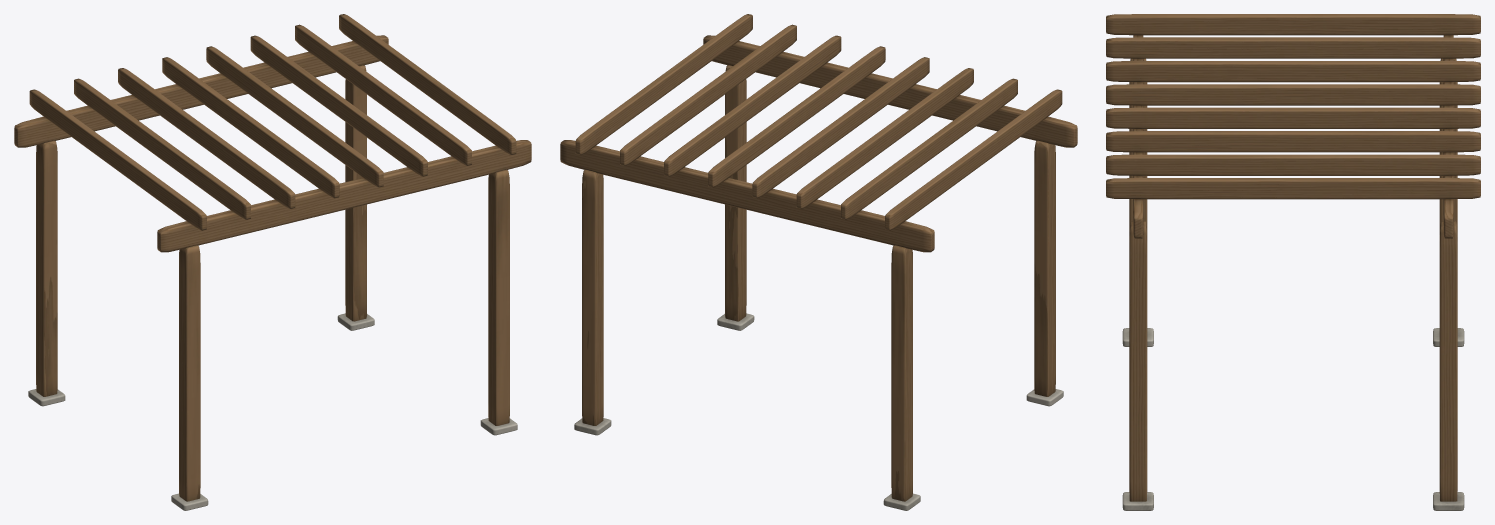
File: cedar.glb
The picture shows the model from 3 angles, left to right: view 1: azimuth 30°, elevation 25°; view 2: azimuth 150°, elevation 25°; view 3: azimuth 270°, elevation 25°; orthographic projection. The views are drawn at different scales.
Visible parts, largest first — view 1: wood_y, wood_z, wood_x, footing_stone; view 2: wood_y, wood_z, wood_x, footing_stone; view 3: wood_y, wood_z, footing_stone, wood_x.
Boxes of the visible parts, x1,y1,x2,y2 form: wood_y: (29, 14, 516, 230); wood_z: (36, 65, 509, 501); wood_x: (14, 35, 531, 252); footing_stone: (28, 313, 517, 510); wood_y: (575, 14, 1062, 230); wood_z: (582, 65, 1055, 501); wood_x: (560, 35, 1077, 252); footing_stone: (574, 313, 1063, 510); wood_y: (1106, 14, 1480, 199); wood_z: (1129, 58, 1457, 501); footing_stone: (1122, 328, 1464, 510); wood_x: (1133, 35, 1453, 238).
Bounding box in the file's own units: 3.6 × 2.78 × 2.9.
Materials: 4 (4 with a texture image).
